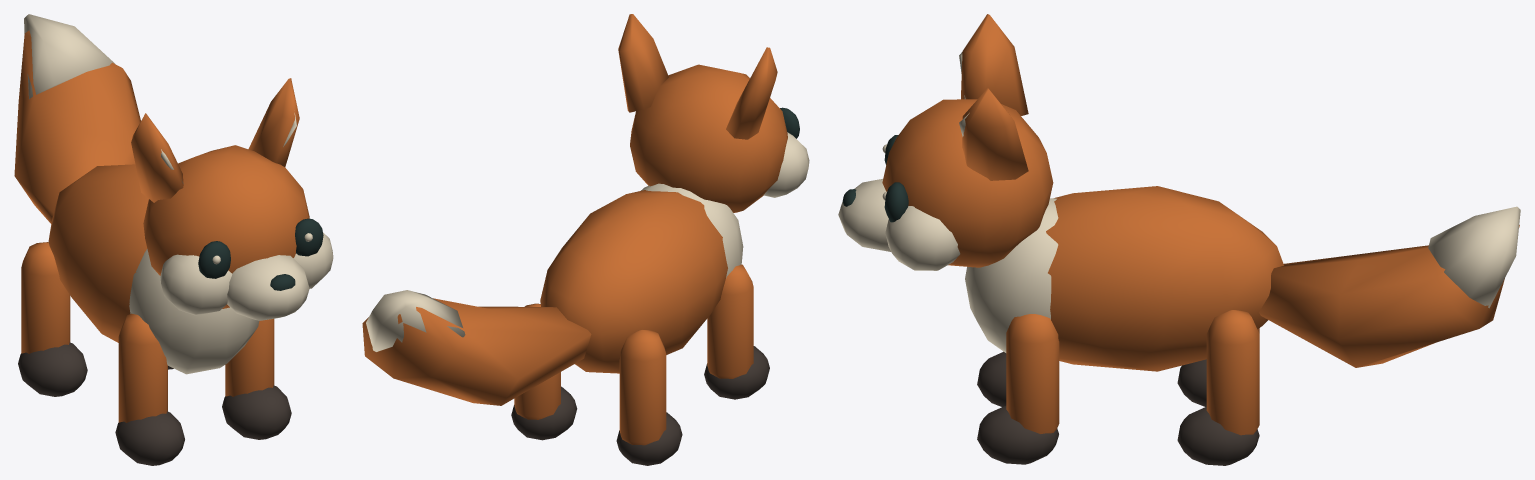
File: org_redfox.glb
3 views of the same model, side by side, from view 1: azimuth 30°, elevation 25°; view 2: azimuth 150°, elevation 25°; view 3: azimuth 270°, elevation 25° (orthographic). The views are drawn at different scales.
Visible parts, largest first — view 1: Head, Body, Tail, Leg_BR, Leg_FR, Leg_FL, Eye_R, Eye_L; view 2: Body, Head, Tail, Leg_BR, Leg_FR, Leg_BL; view 3: Body, Head, Tail, Leg_BL, Leg_FL, Leg_FR, Leg_BR, Eye_L.
Boxes of the visible parts, x1,y1,x2,y2 form: Head: (131, 78, 333, 320); Body: (48, 164, 259, 374); Tail: (14, 14, 140, 223); Leg_BR: (18, 242, 87, 396); Leg_FR: (115, 313, 184, 465); Leg_FL: (222, 318, 291, 439); Eye_R: (198, 241, 230, 278); Eye_L: (295, 218, 323, 256); Body: (540, 183, 743, 373); Head: (618, 14, 809, 212); Tail: (362, 290, 591, 405); Leg_BR: (616, 330, 682, 465); Leg_FR: (704, 264, 769, 399); Leg_BL: (511, 303, 577, 440); Body: (965, 186, 1283, 371); Head: (838, 14, 1053, 270); Tail: (1259, 206, 1520, 367); Leg_BL: (1177, 310, 1259, 465); Leg_FL: (977, 314, 1059, 464); Leg_FR: (977, 351, 1006, 406); Leg_BR: (1177, 328, 1259, 406); Eye_L: (882, 182, 908, 222).
Size of the model in its own units: 0.4428 by 0.7 by 1.13.
